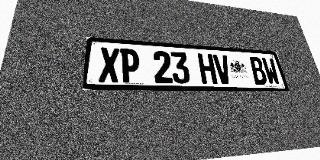2: (153, 50, 173, 83)
3: (170, 52, 190, 84)
B: (248, 57, 268, 85)
H: (197, 53, 218, 84)
P: (120, 48, 140, 83)
V: (212, 54, 233, 84)
W: (261, 57, 281, 85)
X: (98, 47, 119, 83)
